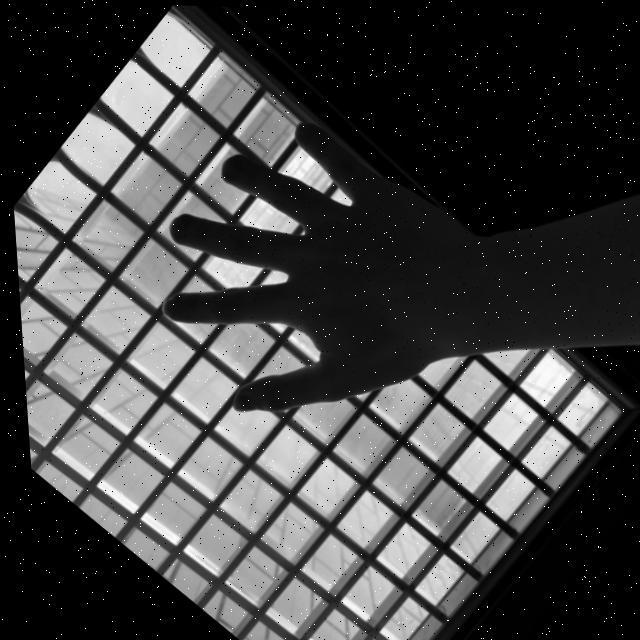no-gloves: (86, 71, 517, 493)
